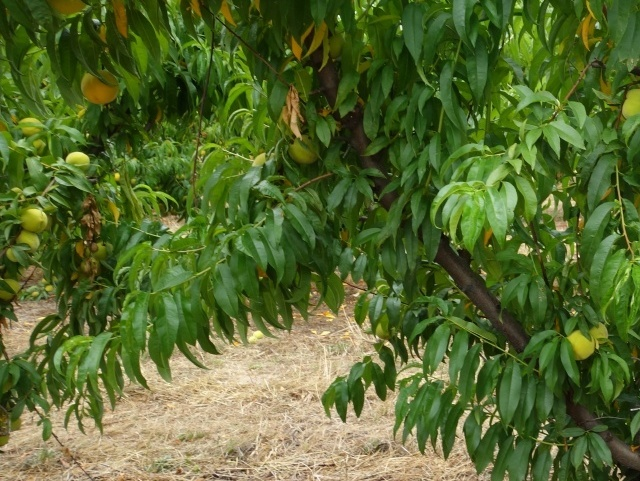peach: (76, 67, 122, 106), (562, 326, 602, 362), (283, 131, 321, 165), (15, 204, 51, 235), (616, 84, 640, 124), (63, 148, 93, 174), (15, 114, 46, 138), (13, 228, 42, 253), (91, 239, 117, 263), (593, 317, 613, 342)
